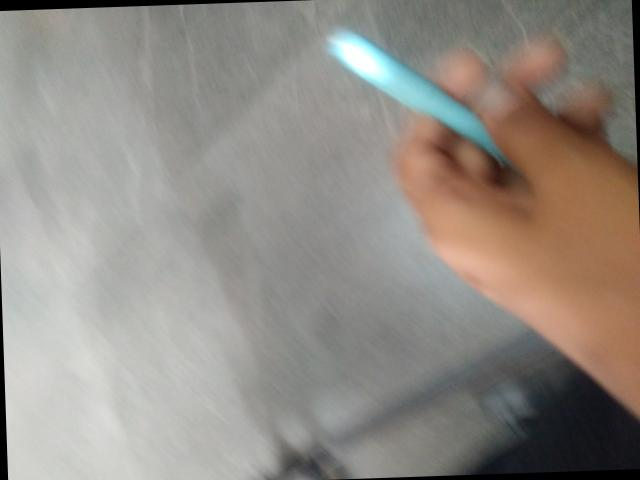PEN: (298, 319, 474, 480)
